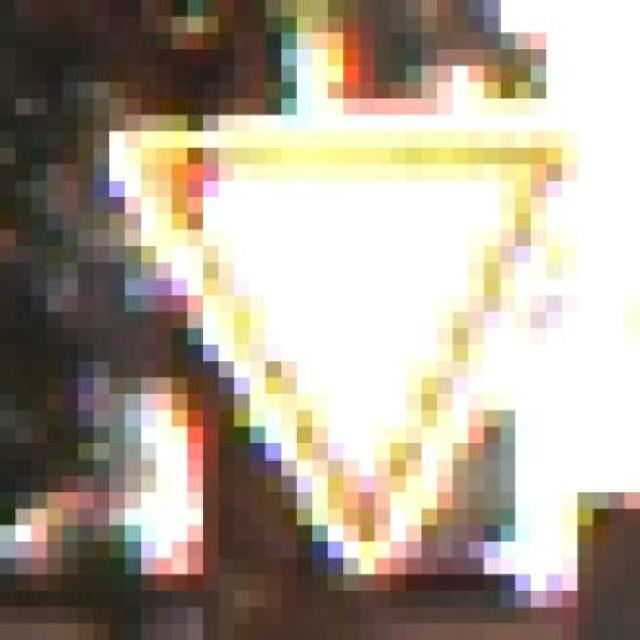Give Way: (93, 82, 593, 575)
